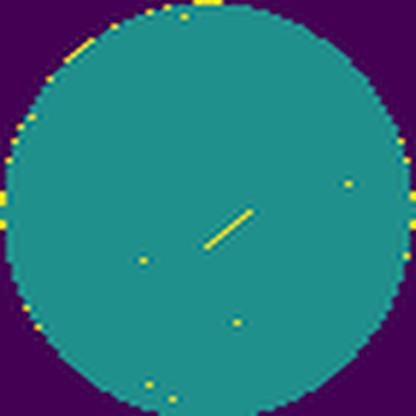Scratch: (200, 201, 260, 253)
